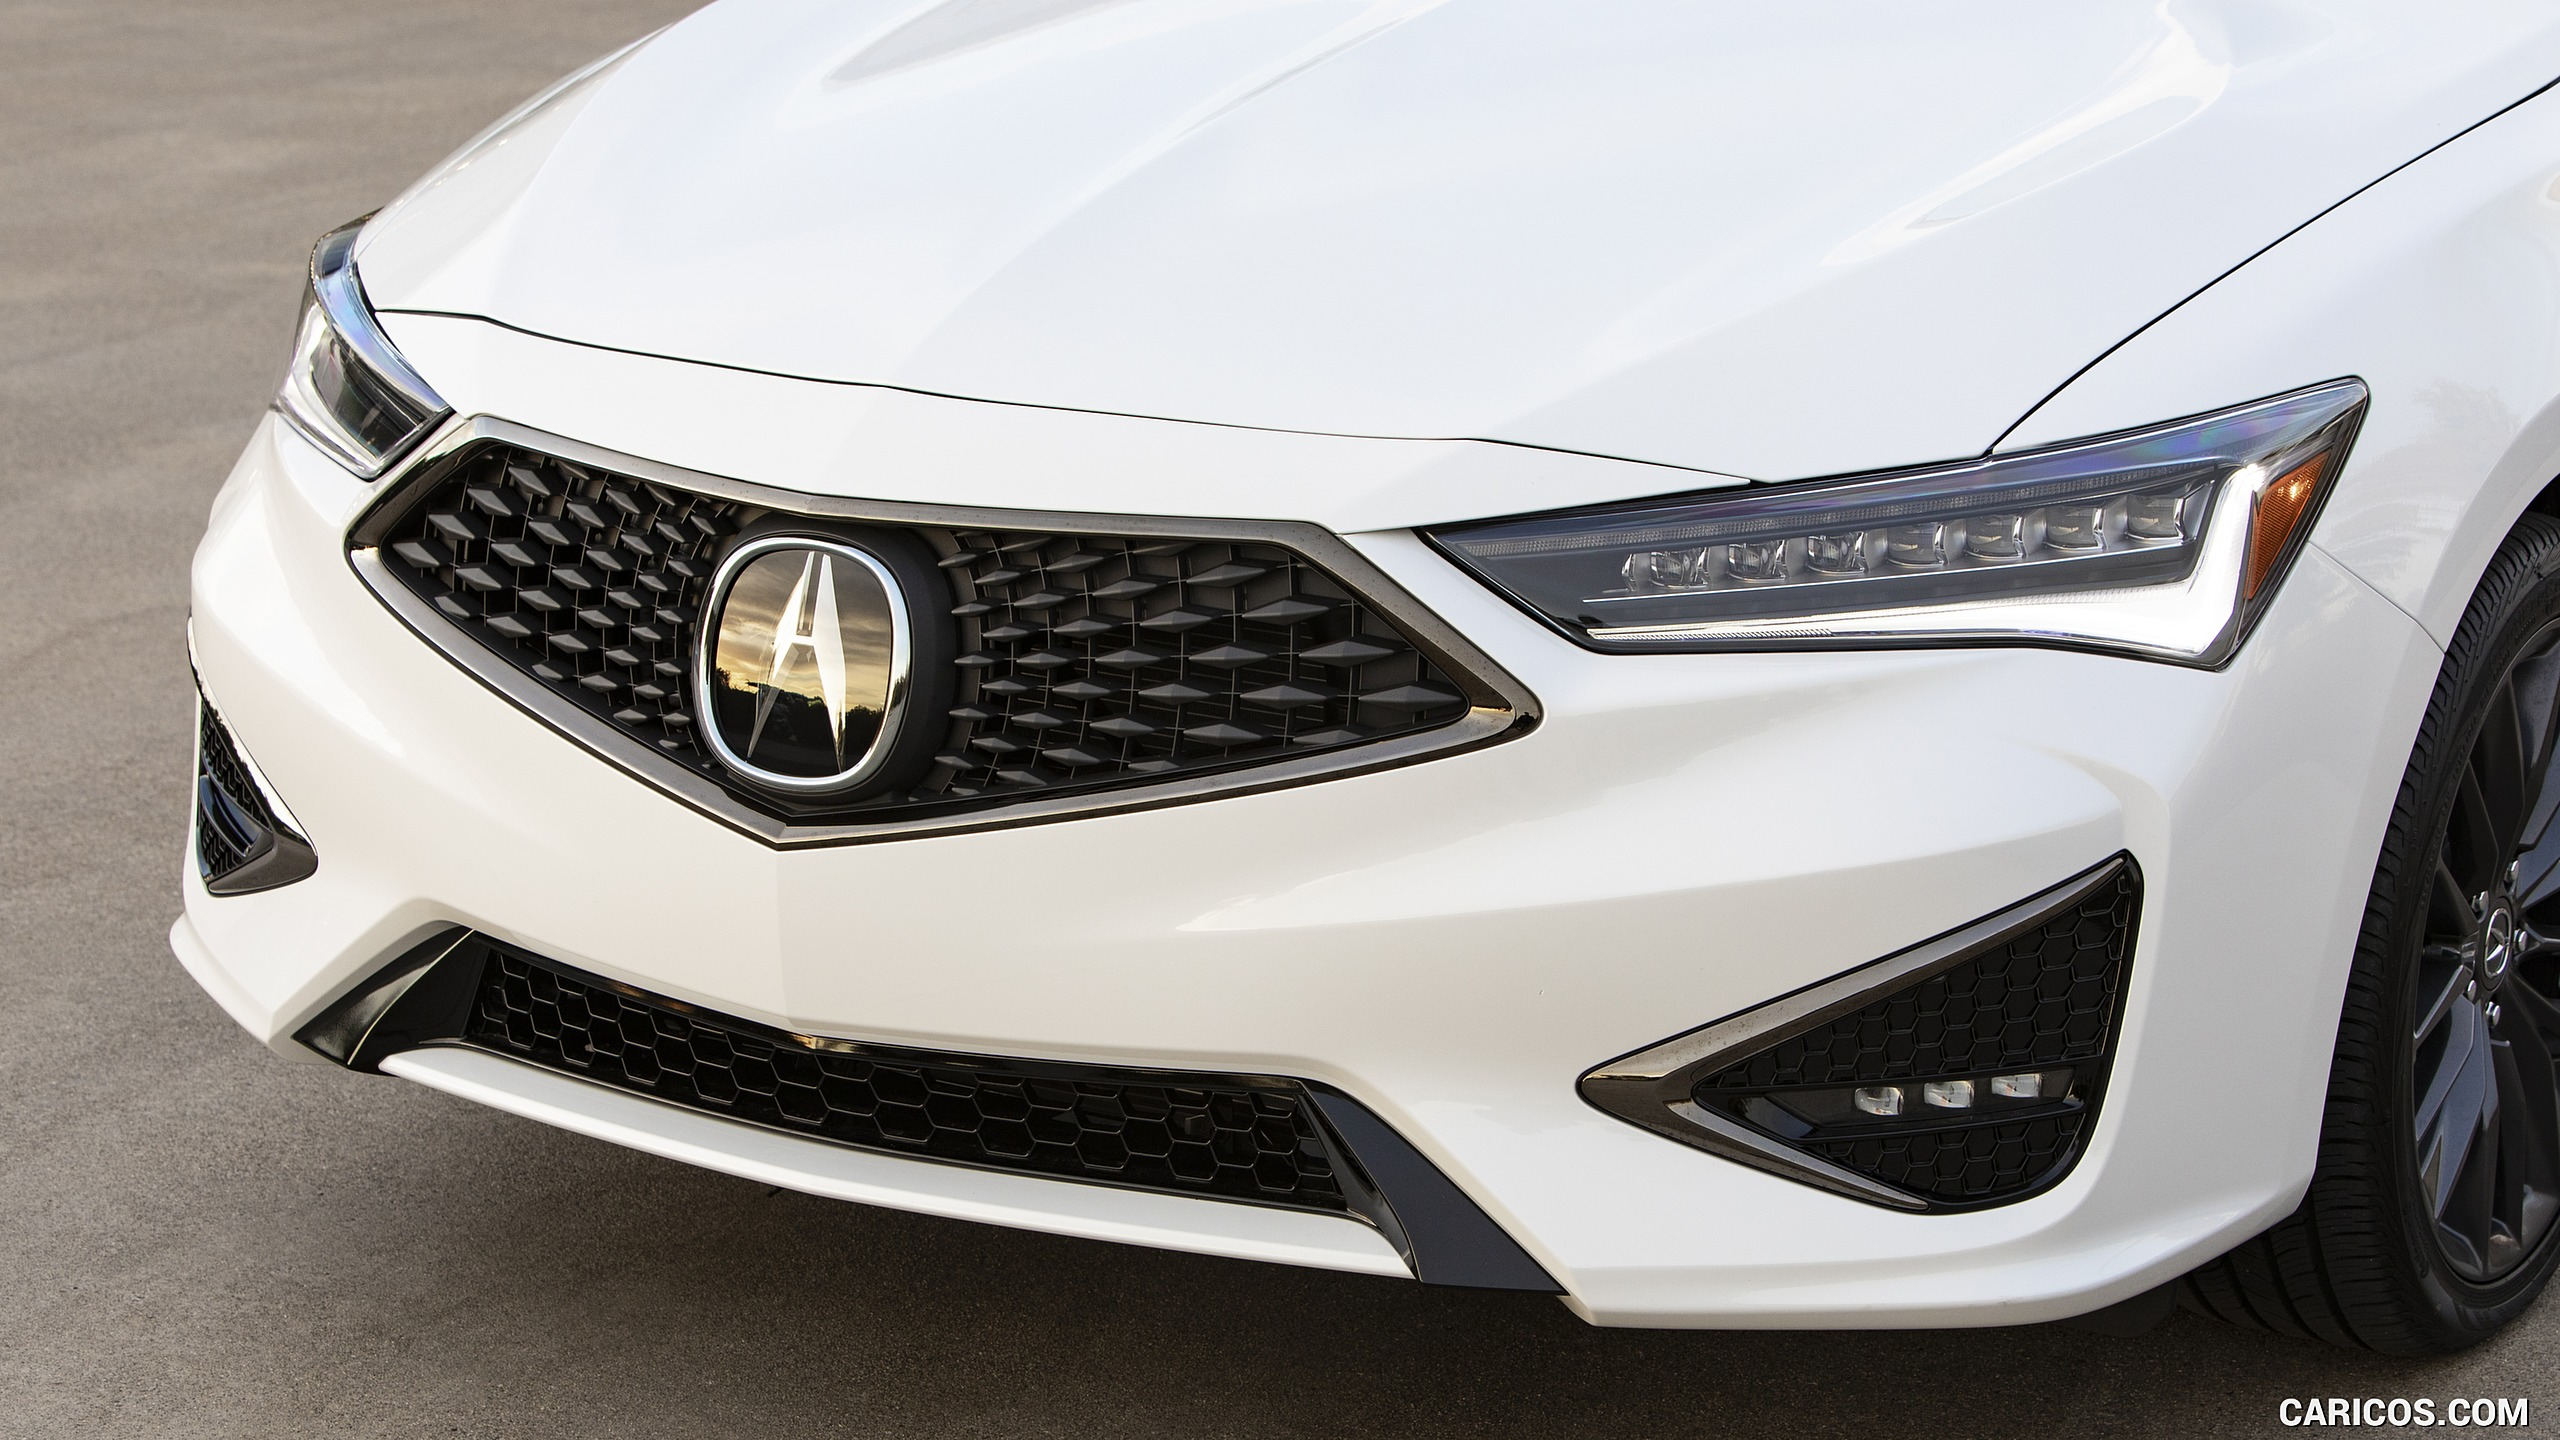Fog Lamp & Scope: (1720, 918, 2129, 1192)
Front: (149, 12, 2544, 1335)
Front Bumper: (132, 818, 2338, 1312)
Grill: (415, 425, 1458, 811)
Headlight: (1505, 375, 2374, 666)
